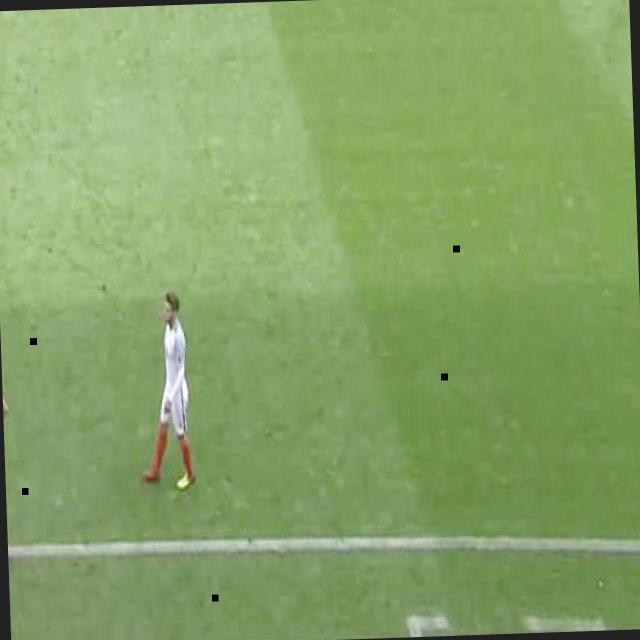player-white: (136, 289, 196, 491), (2, 359, 15, 586)
